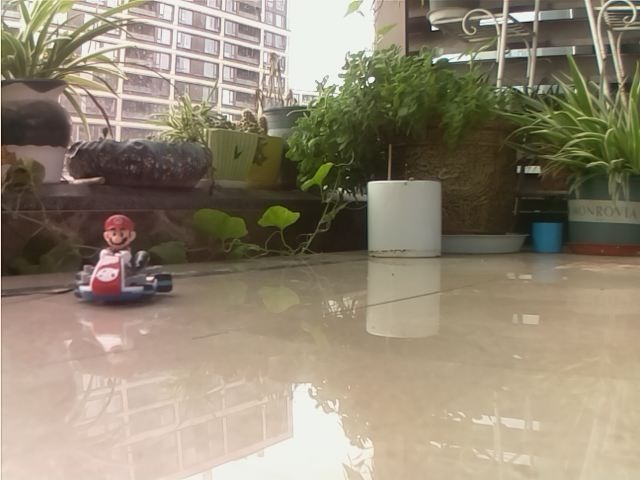mario: (61, 204, 186, 309)
